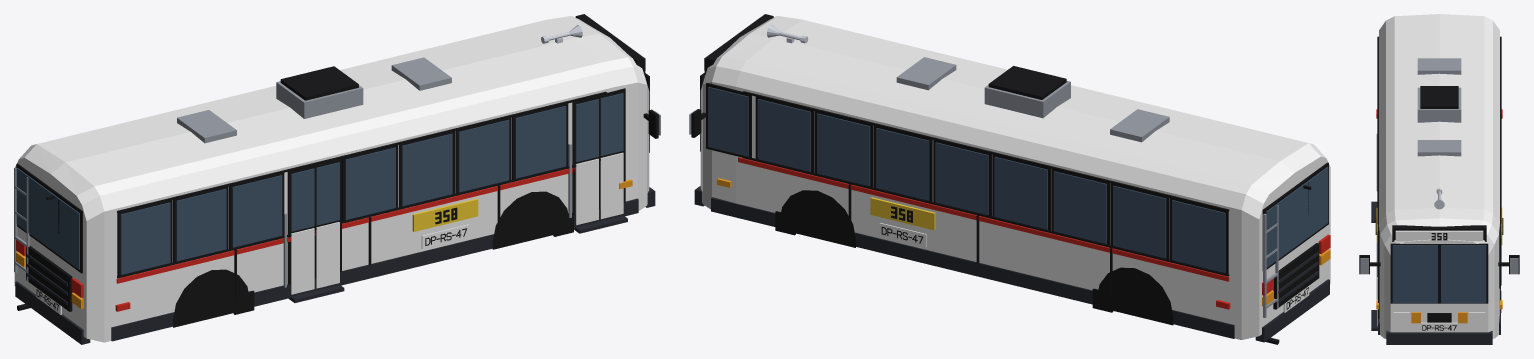
File: micro_blanca_body.obj
3 renders of one model, left to right at view 1: azimuth 30°, elevation 25°; view 2: azimuth 150°, elevation 25°; view 3: azimuth 270°, elevation 25°, orthographic. The views are drawn at different scales.
Parts seen in each view (by area): view 1: micro_blanca_body; view 2: micro_blanca_body; view 3: micro_blanca_body.
Boxes of the visible parts, box(x1,y1,x2,y2) form: micro_blanca_body: box(14, 14, 660, 344); micro_blanca_body: box(689, 14, 1330, 344); micro_blanca_body: box(1359, 14, 1519, 344).
Size of the model in its own units: 10.8 by 3.2 by 3.32.
